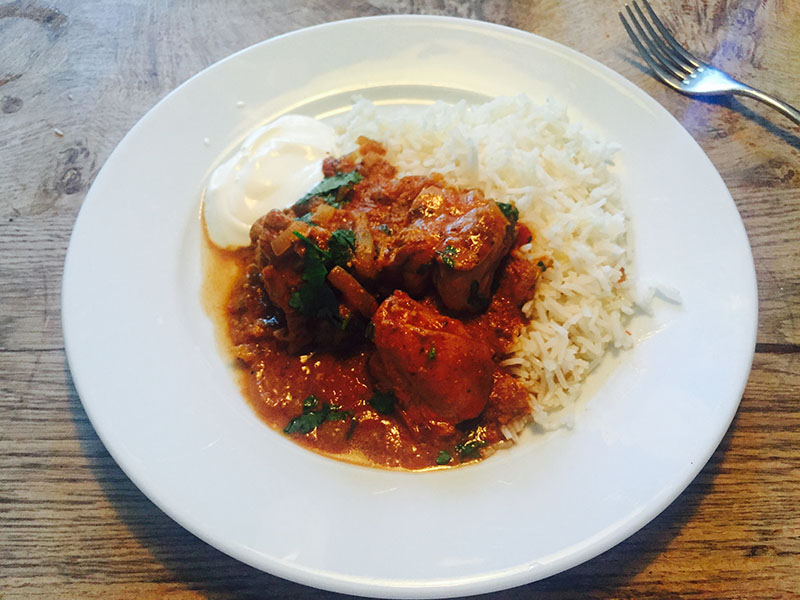butter_chicken: (234, 181, 520, 444)
